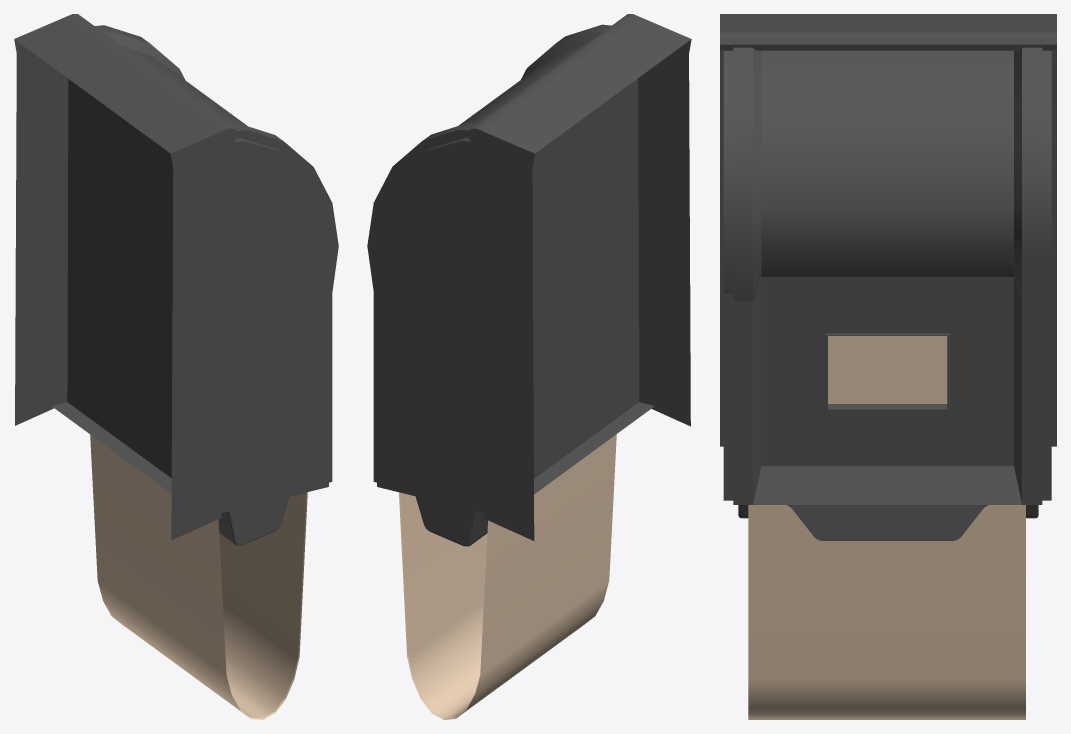
File: tissueDispencer.fbx
The picture shows the model from 3 angles, left to right: view 1: azimuth 30°, elevation 25°; view 2: azimuth 150°, elevation 25°; view 3: azimuth 270°, elevation 25°; orthographic projection. The views are drawn at different scales.
Visible parts, largest first — view 1: polySurface457.001; view 2: polySurface457.001; view 3: polySurface457.001.
Part boxes in pixels (left/top/right/bottom): polySurface457.001: left=14, top=14, right=338, bottom=719; polySurface457.001: left=367, top=14, right=691, bottom=719; polySurface457.001: left=720, top=14, right=1056, bottom=719.
Size of the model in its own units: 2.65 by 8.91 by 4.12.
